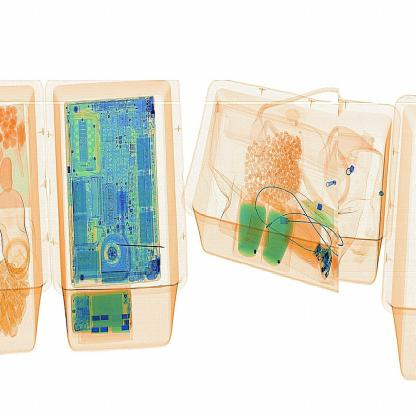wrench: (110, 240, 168, 257)
